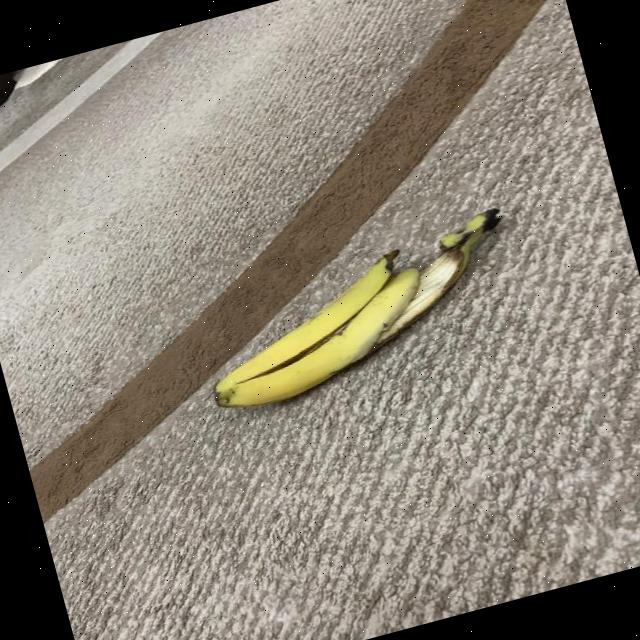banana-peel: (183, 204, 534, 418)
